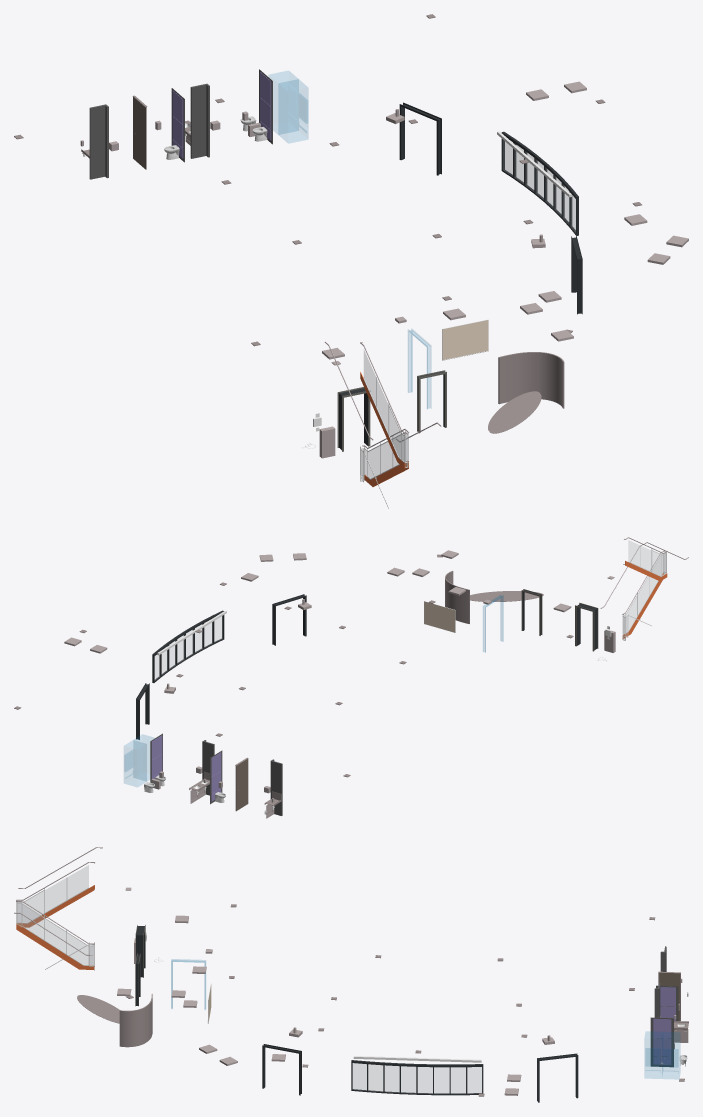
3 renders of one model, top to bottom at view 1: azimuth 30°, elevation 25°; view 2: azimuth 150°, elevation 25°; view 3: azimuth 270°, elevation 25°, orthographic. The views are drawn at different scales.
Visible parts, largest first — view 1: 7, 1, 2, 5, 9, 6, 0, 4, 8, 11, 10; view 2: 2, 1, 5, 7, 6, 9, 0, 8, 4, 11, 10, 3; view 3: 2, 1, 7, 5, 6, 8, 0, 9, 3.
Part boxes in pixels (x1,y1,x2,y2): 7: (14,14,641,433); 1: (339,102,582,449); 2: (361,140,575,480); 5: (80,81,688,458); 9: (89,69,272,179); 6: (269,71,430,408); 0: (82,123,571,508); 4: (442,320,488,359); 8: (172,72,271,158); 11: (337,370,446,451); 10: (133,97,146,169); 2: (155,540,666,679); 1: (136,590,597,739); 5: (64,537,688,818); 7: (14,554,573,810); 6: (124,595,503,786); 9: (150,733,282,815); 0: (157,545,666,814); 8: (151,735,221,801); 4: (424,601,455,632); 11: (521,589,598,651); 10: (236,759,248,811); 3: (622,561,667,638); 2: (17,865,481,1093); 1: (136,926,578,1102); 7: (77,904,688,1096); 5: (14,847,688,1095); 6: (171,959,679,1078); 8: (653,987,675,1064); 0: (16,877,688,1062); 9: (650,946,678,1067); 3: (16,885,94,969).
Size of the model in its own units: 21.49 by 5.65 by 30.62.
